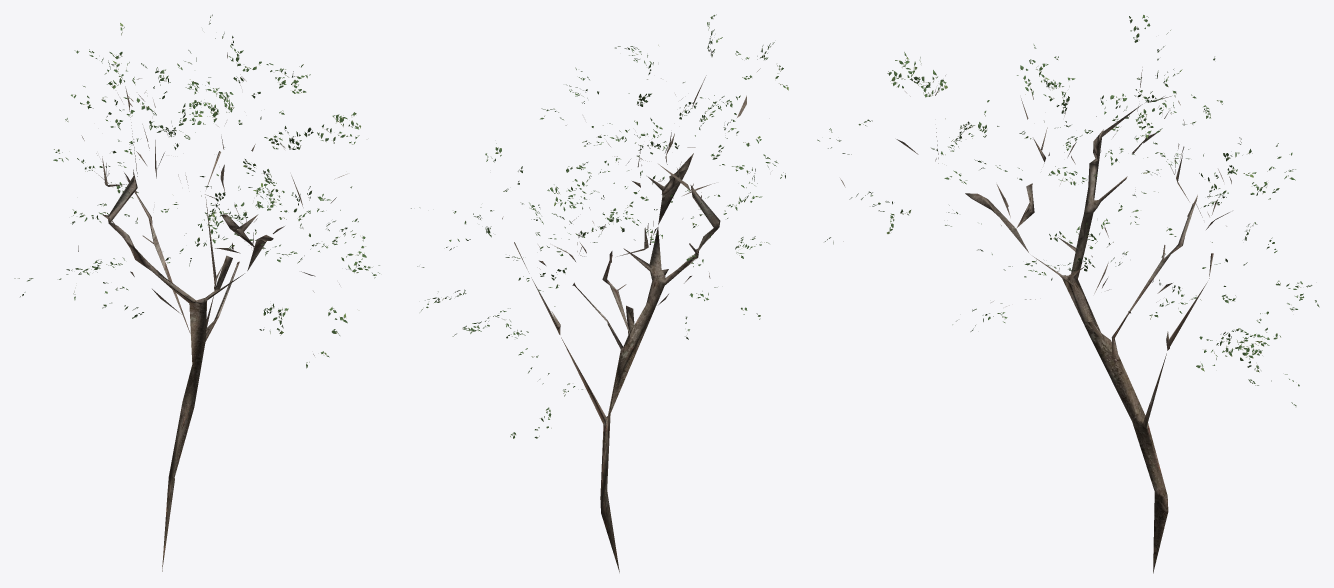
Rendered from tree-small-02-riverbank-phone.glb.
The picture shows the model from 3 angles, left to right: view 1: azimuth 30°, elevation 25°; view 2: azimuth 150°, elevation 25°; view 3: azimuth 270°, elevation 25°; orthographic projection. The views are drawn at different scales.
Visible parts, largest first — view 1: tree_small_02_riverbank; view 2: tree_small_02_riverbank; view 3: tree_small_02_riverbank.
Boxes of the visible parts, left/top/right/bottom form: tree_small_02_riverbank: left=14, top=14, right=379, bottom=571; tree_small_02_riverbank: left=411, top=14, right=788, bottom=572; tree_small_02_riverbank: left=817, top=15, right=1319, bottom=573.
Size of the model in its own units: 2.79 by 4.5 by 3.88.
3 materials, 3 textured.
